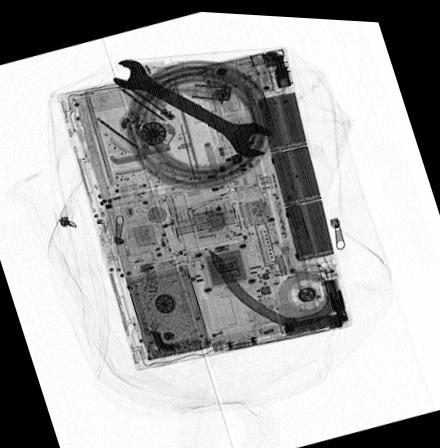Wrench: (110, 57, 273, 153)
